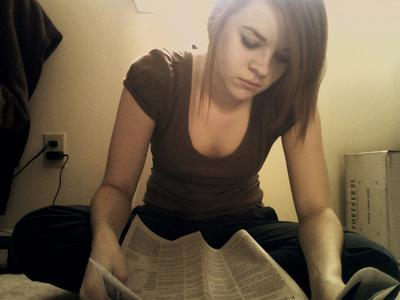person: (80, 1, 346, 300)
